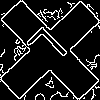L: (25, 25, 77, 77)
